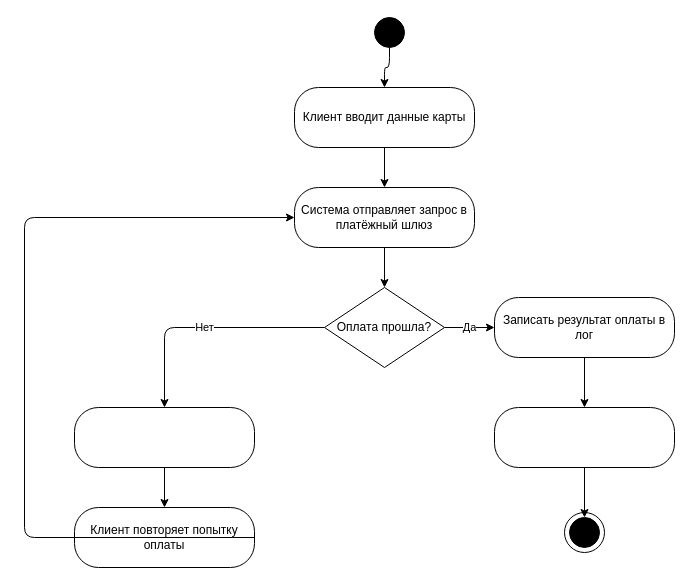
The diagram is 692 pixels wide and 585 high, and some of its shapes have lost their labels. Here are the shapes that lost their labels. From the top down, the box of each, then its label:
(74, 406, 254, 468): Клиент получает уведомление об ошибке оплаты
(494, 406, 674, 468): Заказ подтверждён и передан на кухню
